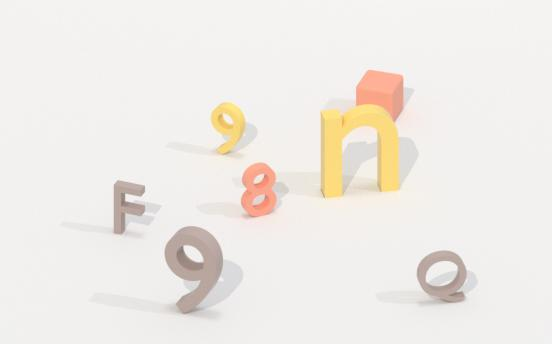8: (233, 156, 281, 219)
9: (164, 224, 225, 315), (209, 97, 247, 162)
F: (107, 178, 151, 245)
hop: (355, 66, 408, 125)
n: (319, 103, 403, 203)
q: (415, 243, 469, 308)
